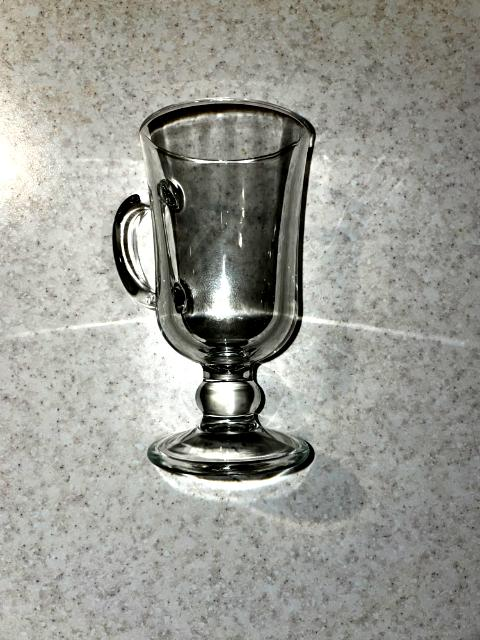Cup: (113, 99, 313, 479)
